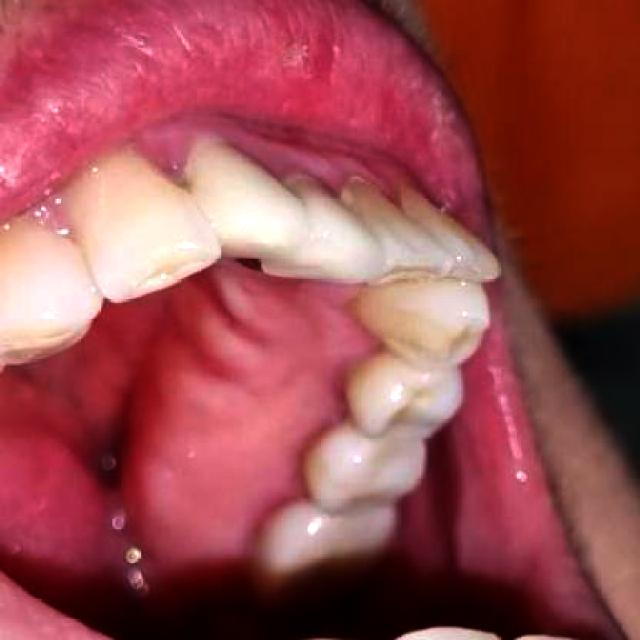Plaque: (211, 321, 374, 597)
